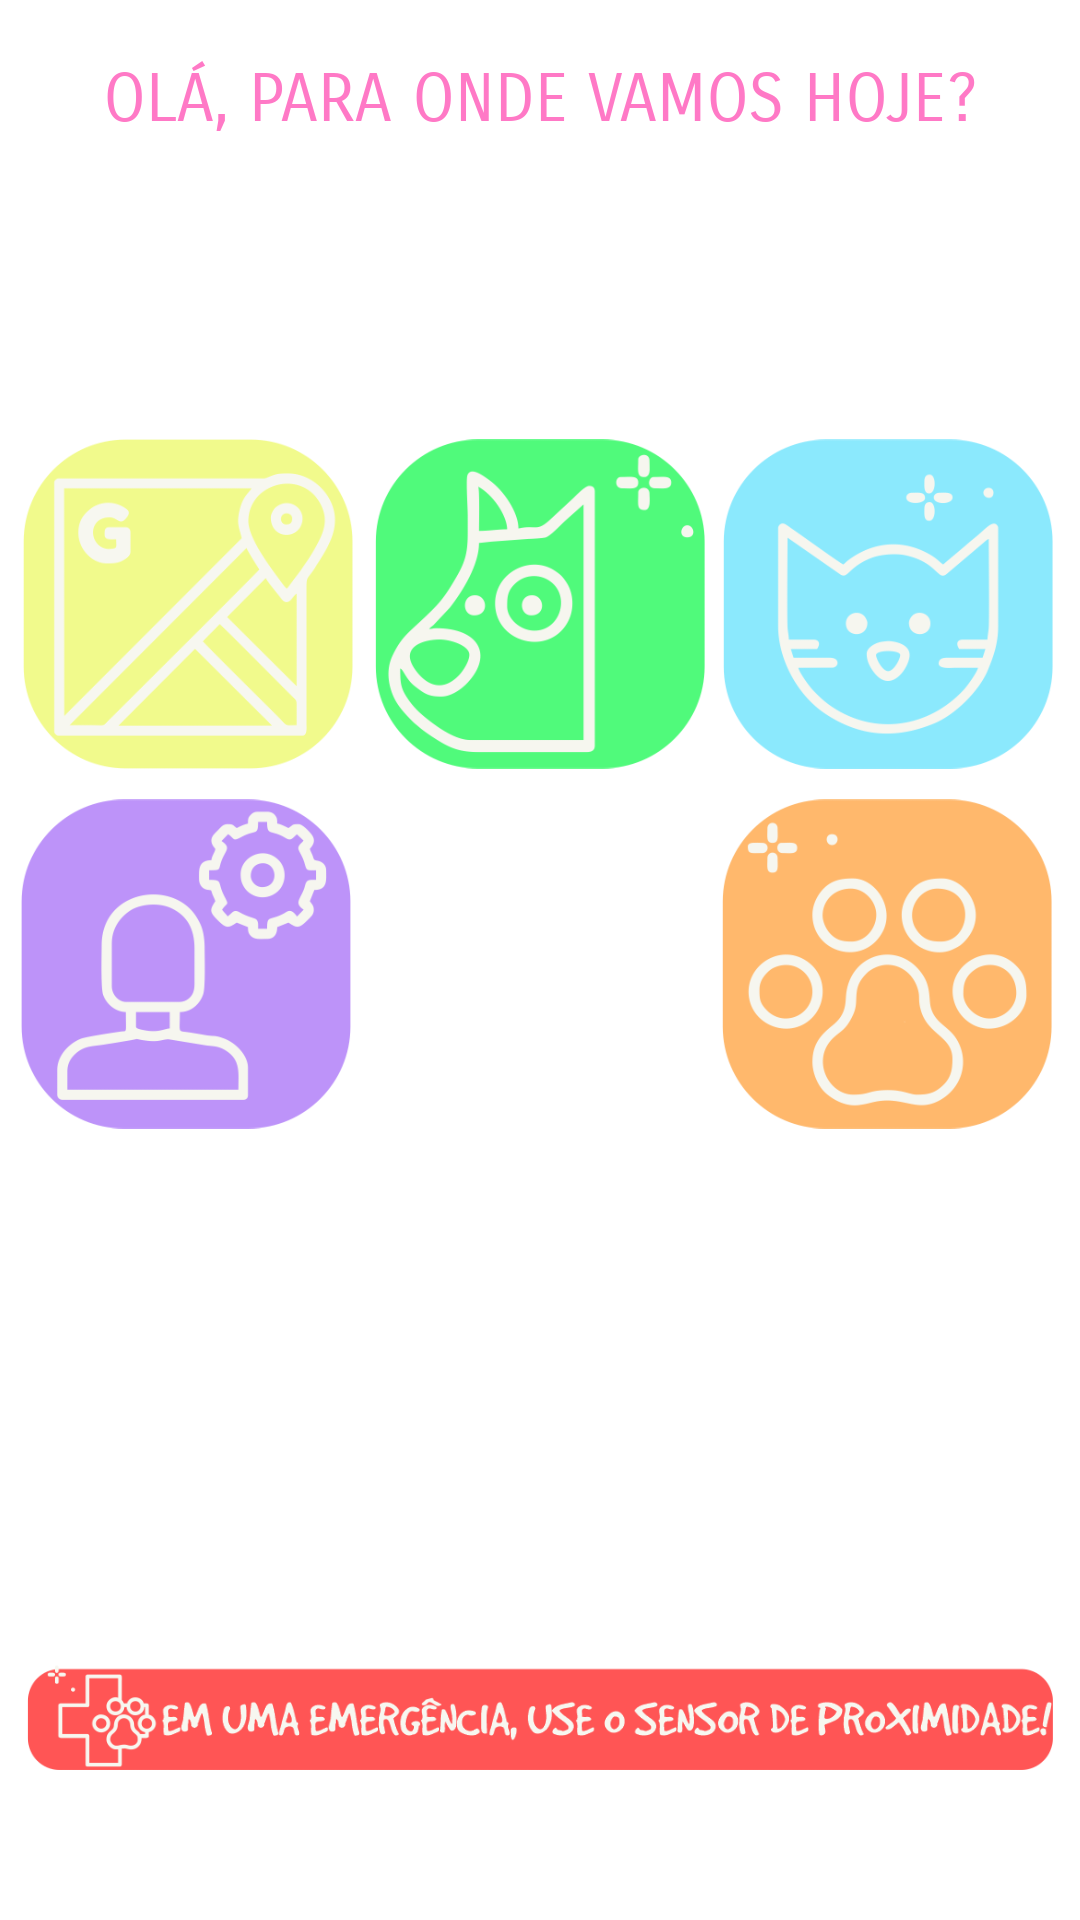

Icon click points for this 1080w x 1920h phone screenshot, format (x,y):
cat: (888,604)
dog: (540,604)
geo: (188,604)
pets: (887,964)
user: (186,964)
